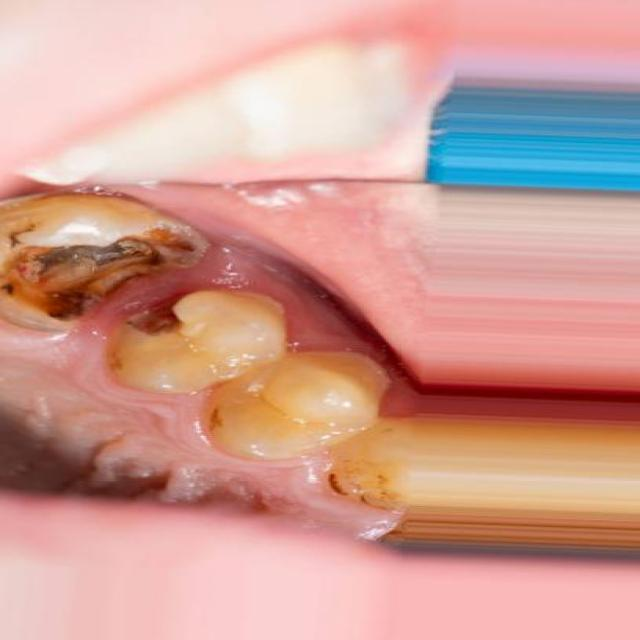caries: (0, 203, 202, 352), (310, 446, 408, 518)
